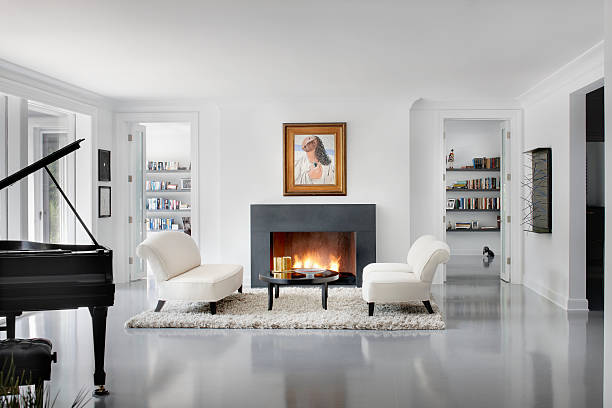sofa: (135, 226, 248, 320), (359, 232, 451, 324)
table: (256, 266, 340, 311)
wall art: (280, 120, 349, 198)
